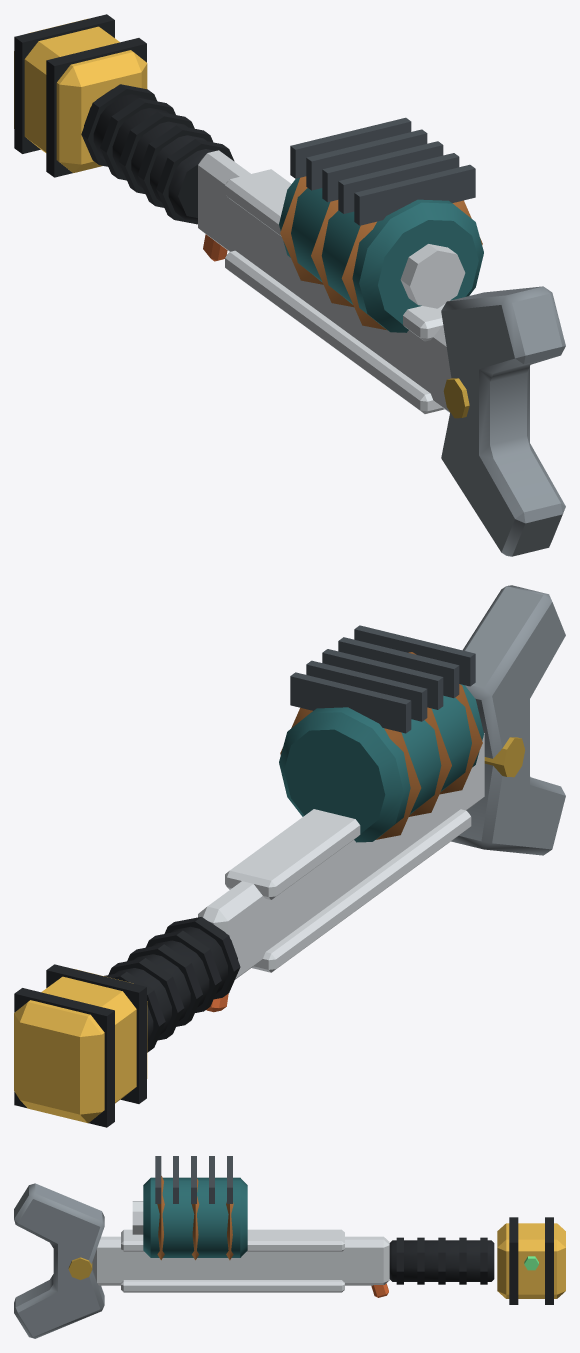
File: Weapon_PowerWrench.fbx
3 views of the same model, one above another, from view 1: azimuth 30°, elevation 25°; view 2: azimuth 150°, elevation 25°; view 3: azimuth 270°, elevation 25° (orthographic). The views are drawn at different scales.
Parts seen in each view (by area): view 1: PowerWrench; view 2: PowerWrench; view 3: PowerWrench.
Part boxes in pixels (x1=…): PowerWrench: x1=14, y1=14, x2=565, y2=556; PowerWrench: x1=14, y1=585, x2=565, y2=1127; PowerWrench: x1=14, y1=1156, x2=565, y2=1338.
Size of the model in its own units: 0.61 by 1.2 by 3.7.
